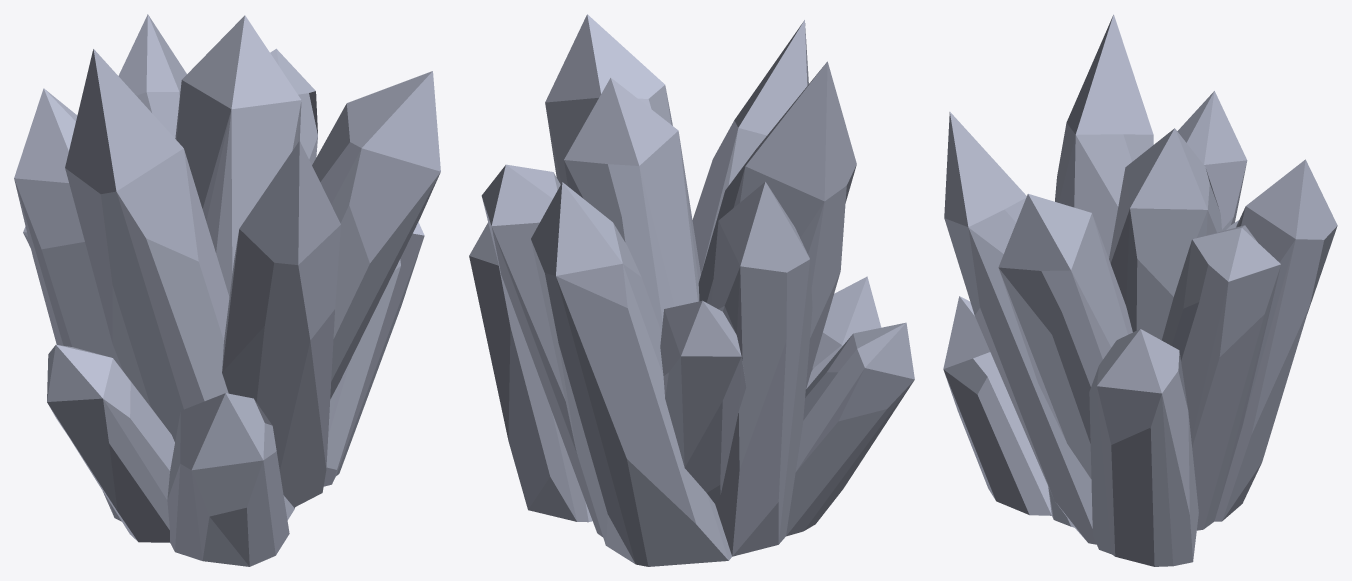
Rendered from crystals(1).fbx.
The picture shows the model from 3 angles, left to right: view 1: azimuth 30°, elevation 25°; view 2: azimuth 150°, elevation 25°; view 3: azimuth 270°, elevation 25°; orthographic projection. The views are drawn at different scales.
Visible parts, largest first — view 1: crystals; view 2: crystals; view 3: crystals.
Boxes of the visible parts, bbox=[...] form: crystals: bbox=[14, 14, 440, 566]; crystals: bbox=[469, 14, 914, 566]; crystals: bbox=[943, 14, 1337, 566].
Bounding box in the file's own units: 138 × 160 × 130.
